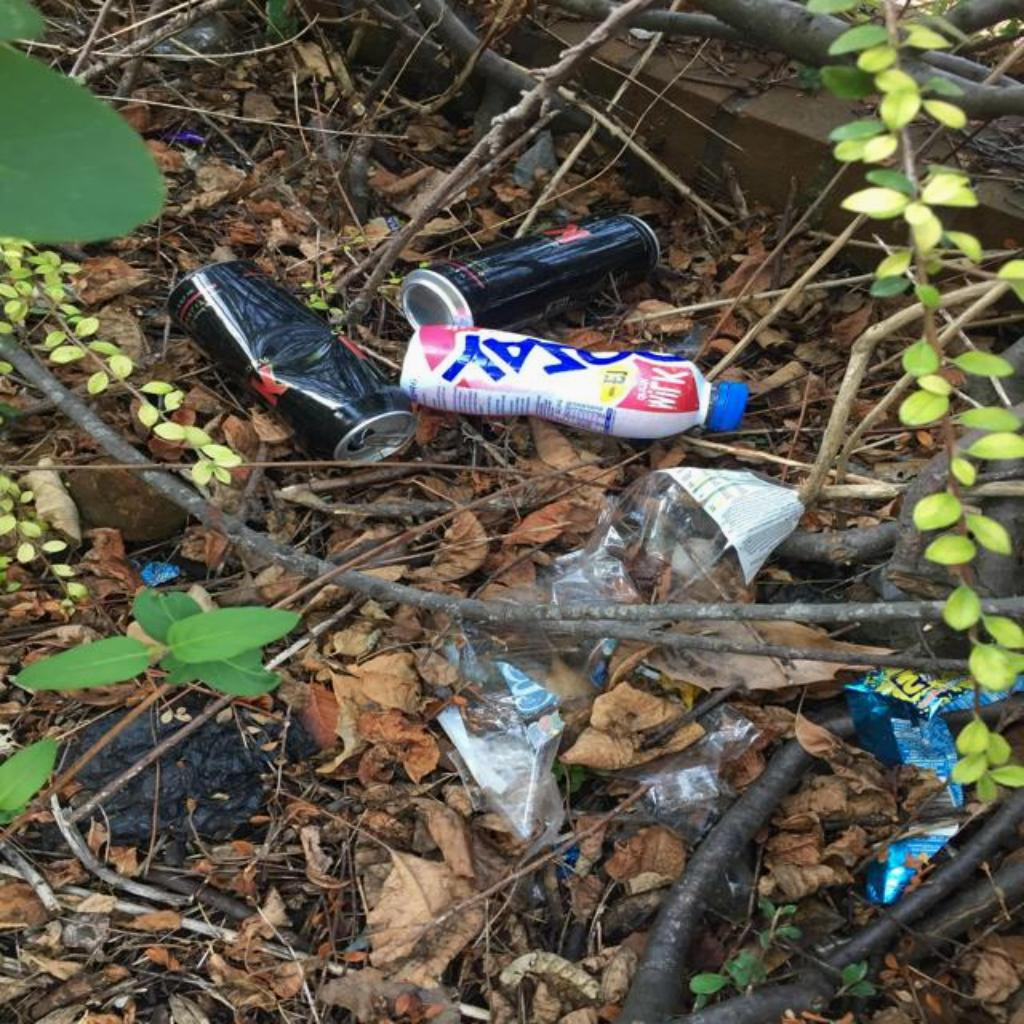garbage: (156, 242, 402, 475), (412, 318, 759, 450), (555, 456, 810, 626), (396, 198, 665, 345), (426, 645, 582, 842), (851, 670, 982, 861)
